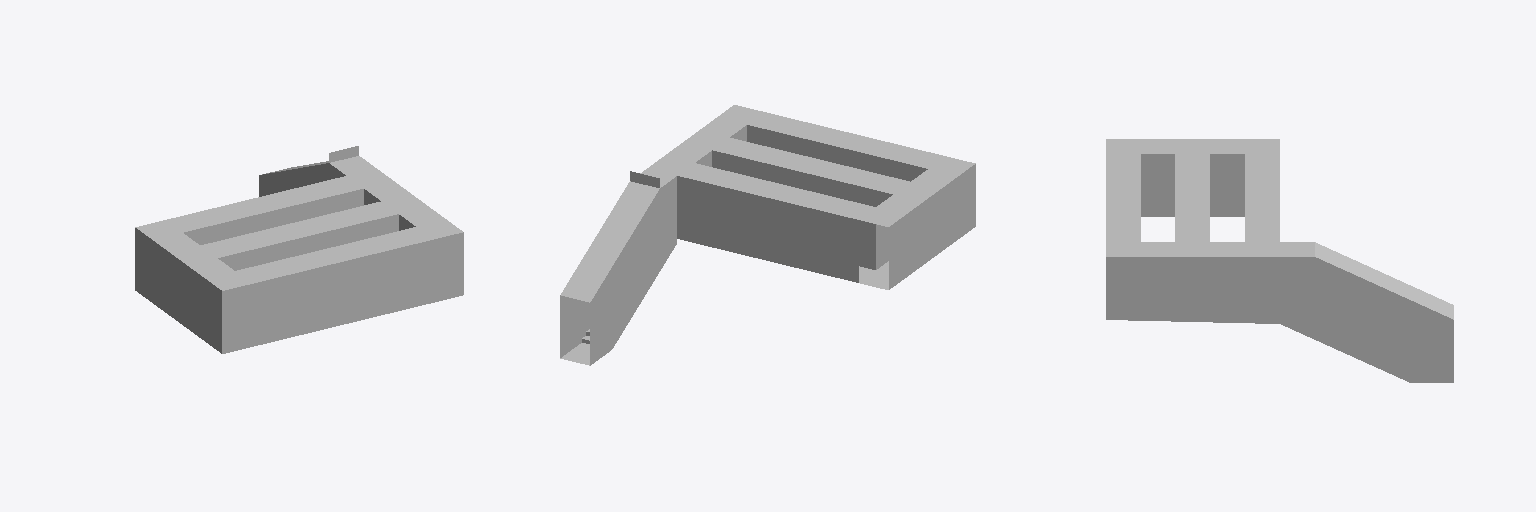
Rendered from floor_choice.obj.
3 views of the same model, side by side, from view 1: azimuth 30°, elevation 25°; view 2: azimuth 150°, elevation 25°; view 3: azimuth 270°, elevation 25° (orthographic).
Bounding box in the file's own units: 800 × 432 × 1000.